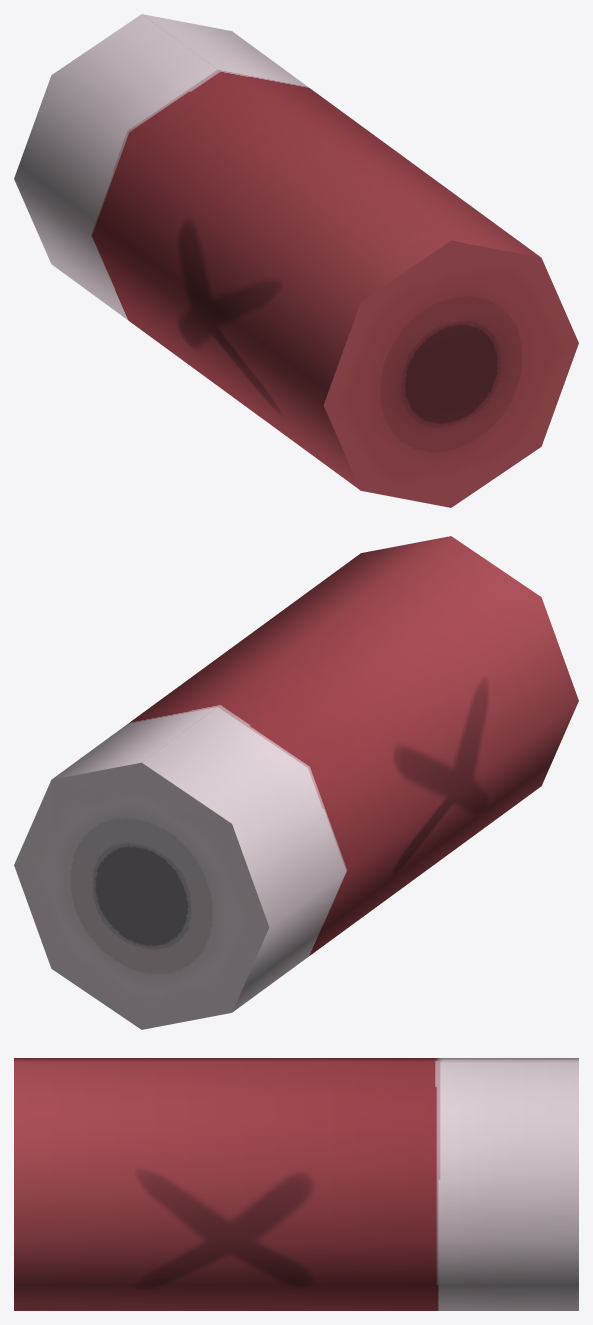
File: Projectile.fbx
3 renders of one model, top to bottom at view 1: azimuth 30°, elevation 25°; view 2: azimuth 150°, elevation 25°; view 3: azimuth 270°, elevation 25°, orthographic. The views are drawn at different scales.
Parts seen in each view (by area): view 1: Projectile; view 2: Projectile; view 3: Projectile.
Part boxes in pixels (x1=…): Projectile: x1=14, y1=14, x2=578, y2=507; Projectile: x1=14, y1=536, x2=578, y2=1029; Projectile: x1=14, y1=1058, x2=578, y2=1310.
Size of the model in its own units: 0.1929 by 0.1929 by 0.4049.
Materials: 1 (1 with a texture image).
